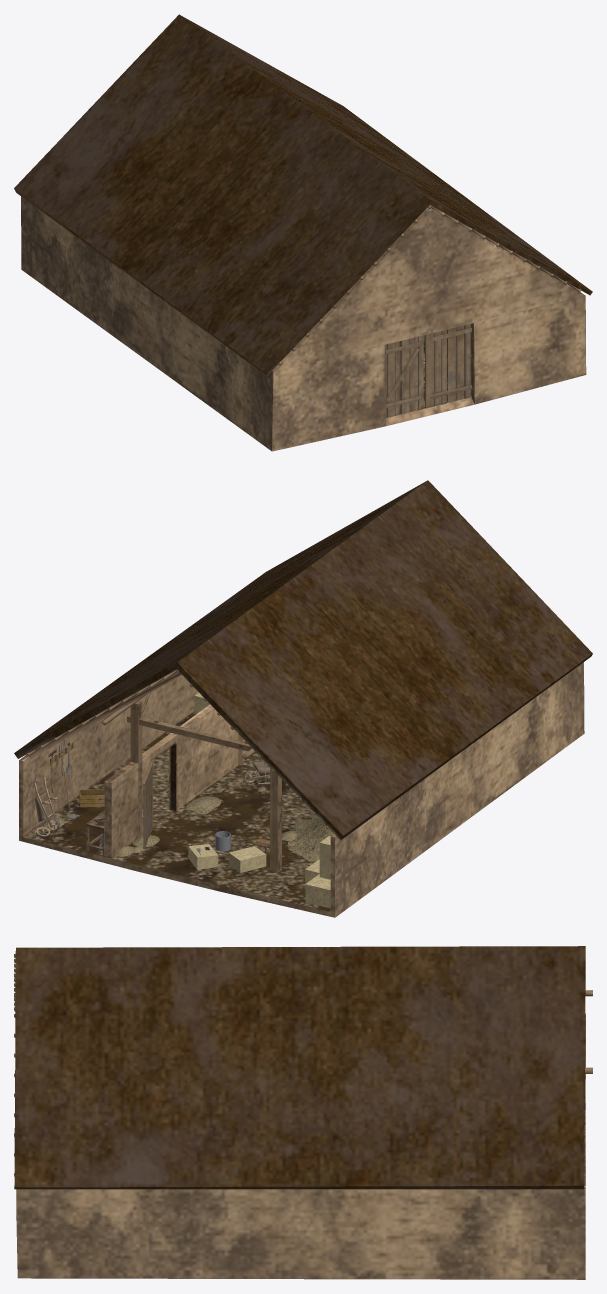
File: barn.gltf
3 renders of one model, top to bottom at view 1: azimuth 30°, elevation 25°; view 2: azimuth 150°, elevation 25°; view 3: azimuth 270°, elevation 25°, orthographic. The views are drawn at different scales.
Parts seen in each view (by area): view 1: BarnBaked_nohitbox; view 2: BarnBaked_nohitbox, HayBaked_nohitbox, ToolsBaked_nohitbox; view 3: BarnBaked_nohitbox.
Part boxes in pixels (<box>): BarnBaked_nohitbox: <box>14,14,592,451</box>; BarnBaked_nohitbox: <box>14,480,592,917</box>; HayBaked_nohitbox: <box>41,693,333,908</box>; ToolsBaked_nohitbox: <box>34,740,320,855</box>; BarnBaked_nohitbox: <box>14,946,592,1279</box>.
Size of the model in its own units: 11.26 by 7.14 by 15.1.
